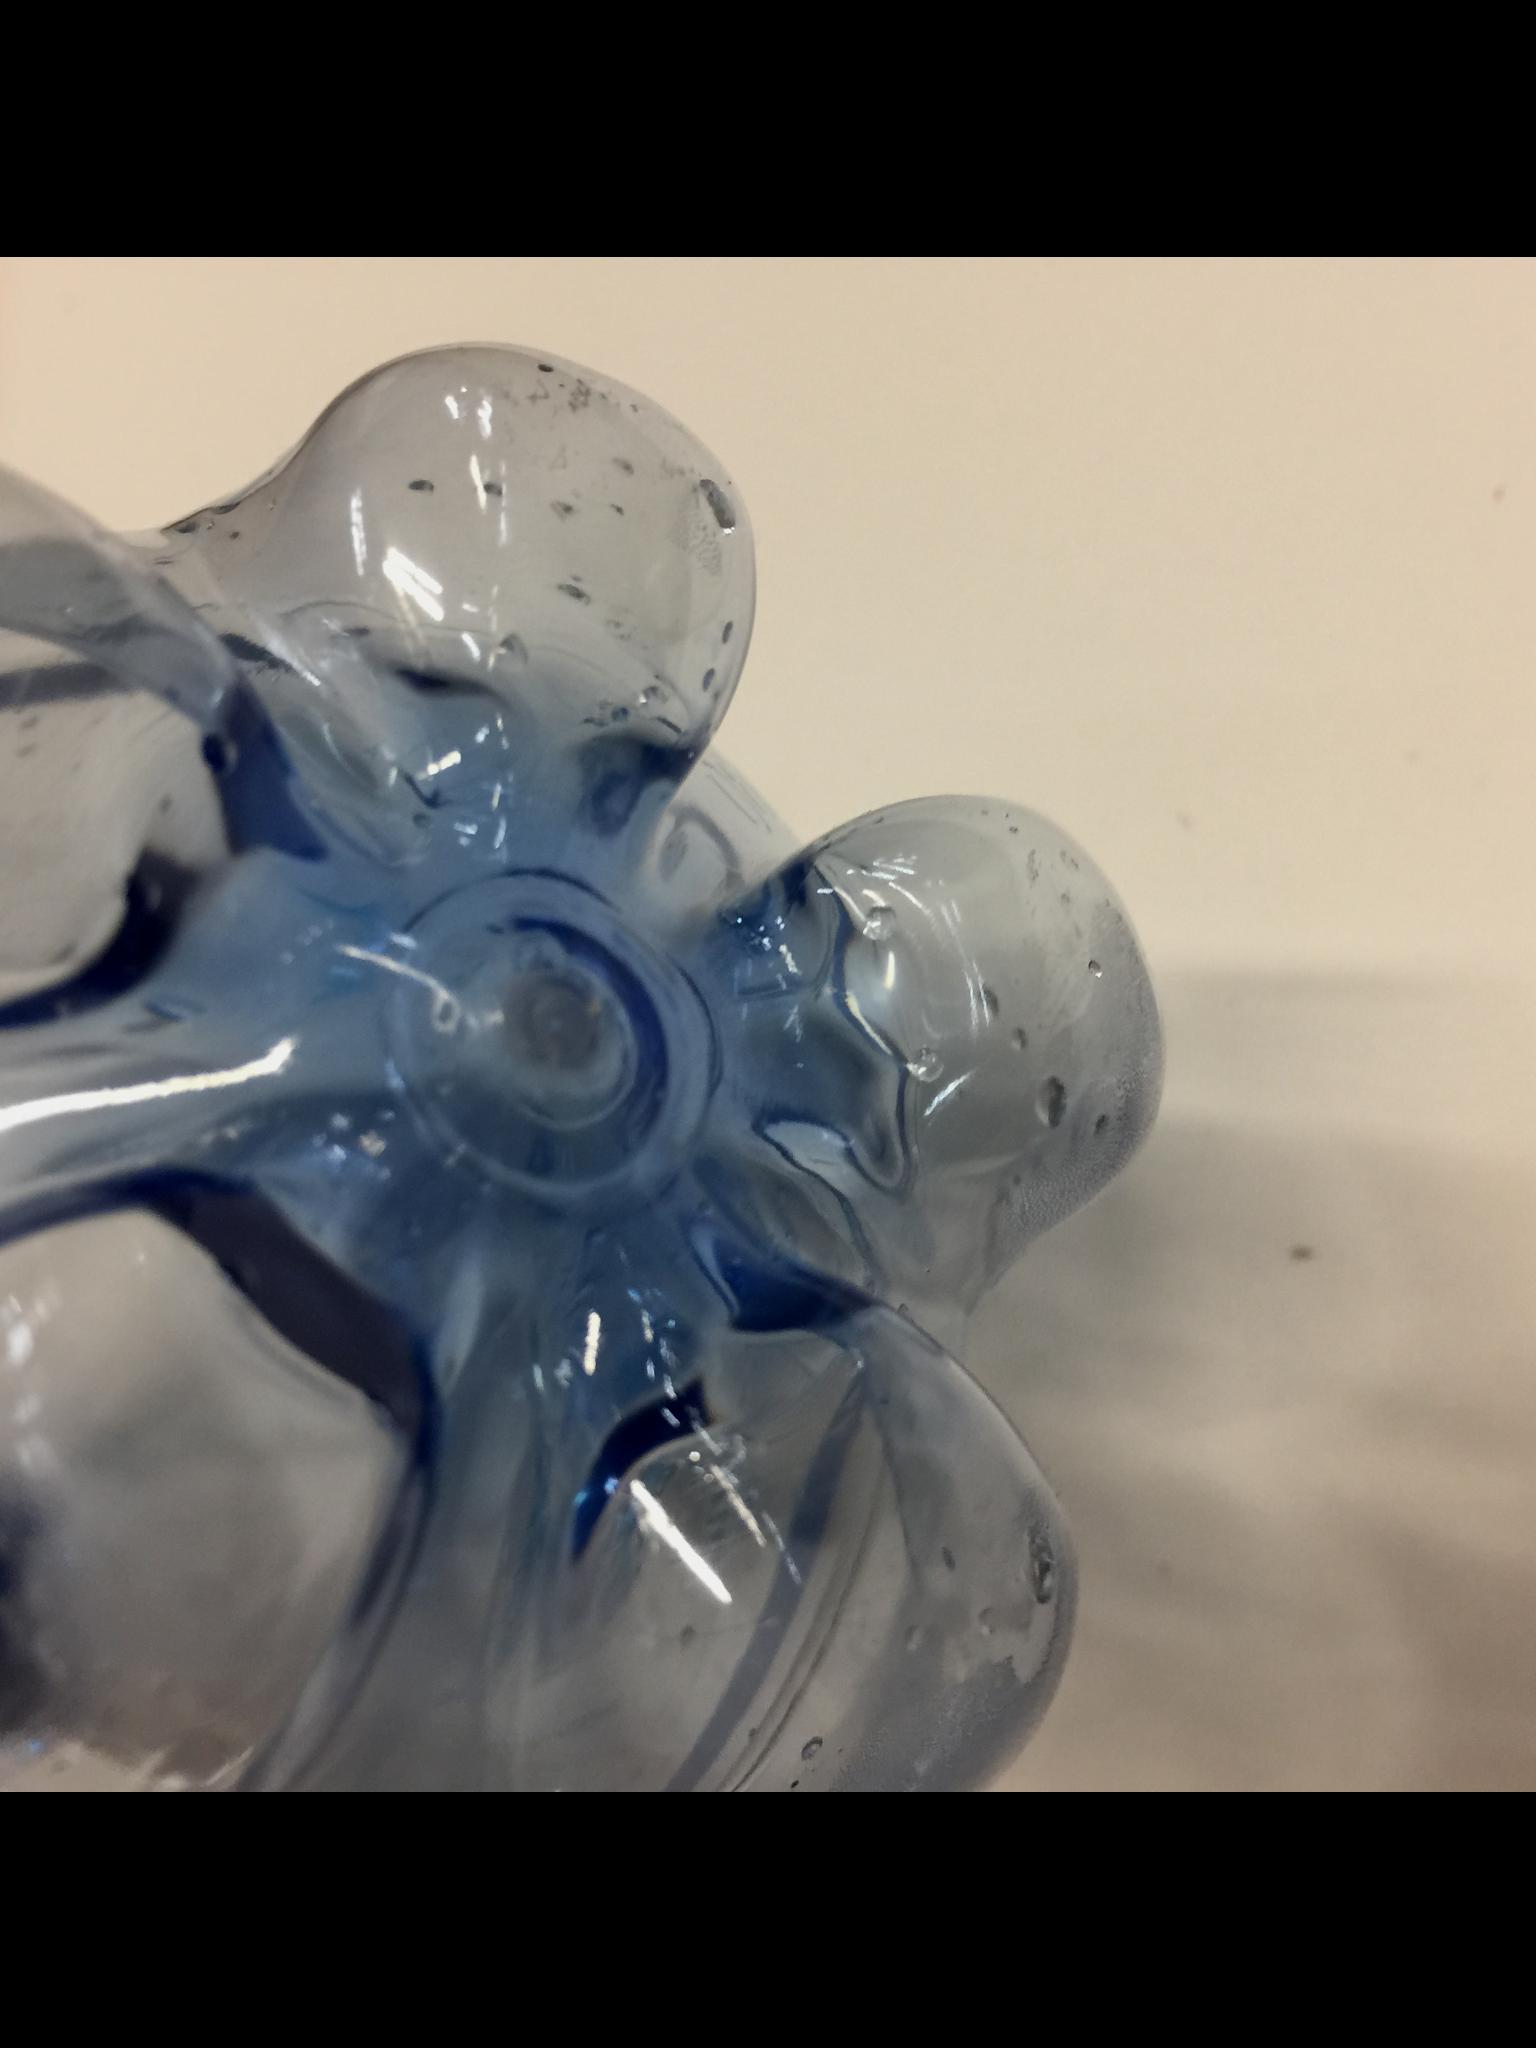Plastic: (0, 256, 1186, 1793)
